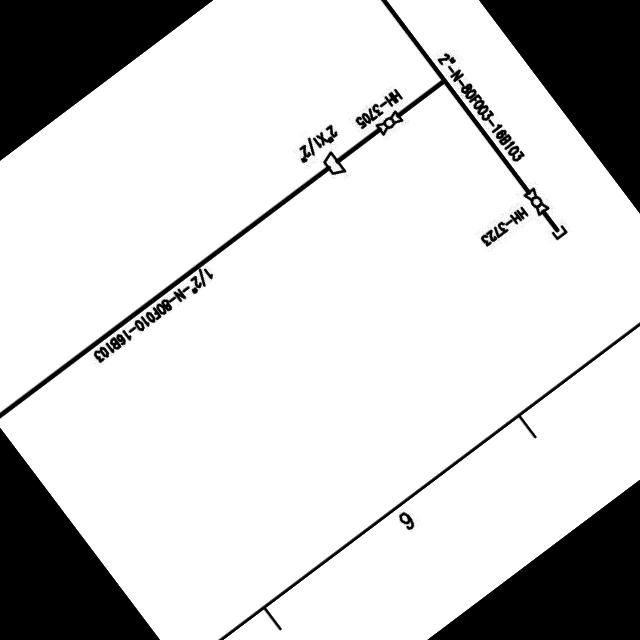BV2: (518, 182, 556, 222), (372, 104, 409, 140)
EC: (540, 210, 576, 248)
SP: (316, 146, 354, 185)
